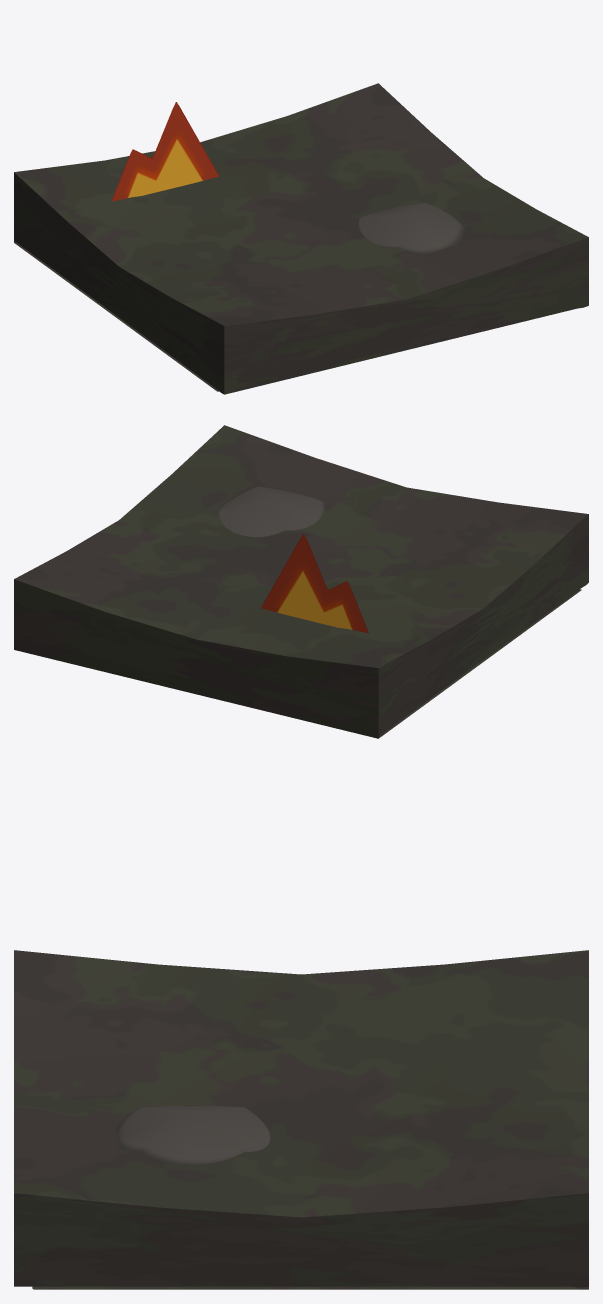
Rendered from 1FireTile1.fbx.
3 views of the same model, one above another, from view 1: azimuth 30°, elevation 25°; view 2: azimuth 150°, elevation 25°; view 3: azimuth 270°, elevation 25° (orthographic). The views are drawn at different scales.
Visible parts, largest first — view 1: 1FireTile1, 1BurningFire, BurntPileTop; view 2: 1FireTile1, 1BurningFire, BurntPileTop; view 3: 1FireTile1, BurntPileTop.
Part boxes in pixels (box(x1,y1,x2,y2)): 1FireTile1: box(14, 83, 588, 394); 1BurningFire: box(111, 102, 218, 201); BurntPileTop: box(358, 202, 465, 253); 1FireTile1: box(14, 425, 588, 738); 1BurningFire: box(261, 534, 368, 633); BurntPileTop: box(217, 486, 324, 537); 1FireTile1: box(14, 950, 588, 1289); BurntPileTop: box(115, 1105, 270, 1164).
Bounding box in the file's own units: 200 × 114 × 200.
3 materials, 3 textured.
